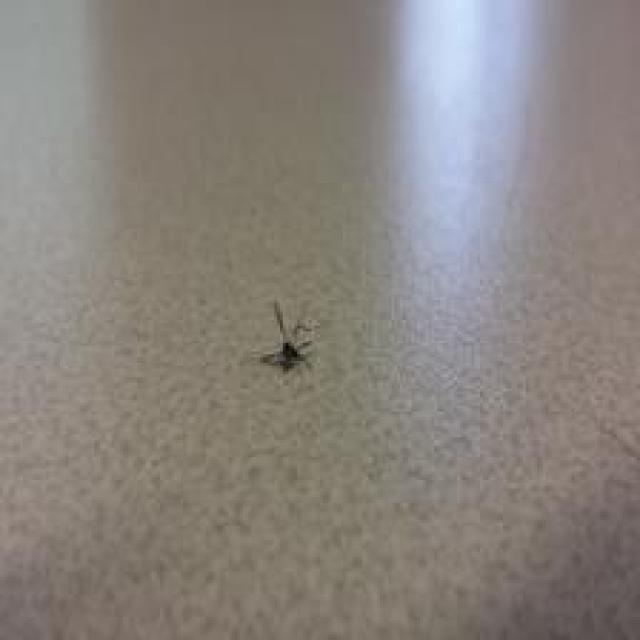Aedes albopictus: (257, 297, 320, 374)
